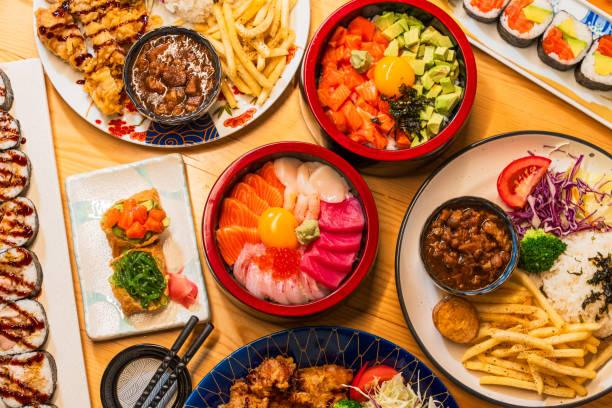Braised Crucian Carp: (393, 132, 609, 408), (34, 0, 303, 149), (200, 140, 373, 319), (298, 0, 472, 175)
